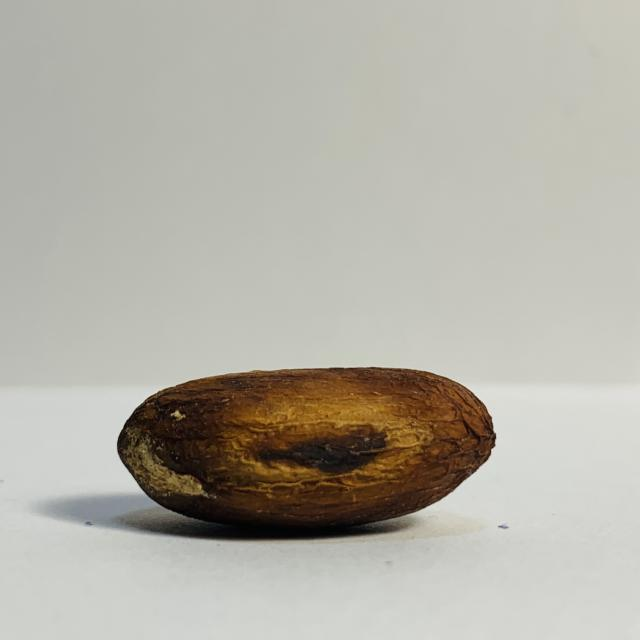Fine_cocoabeans: (8, 341, 552, 574)
